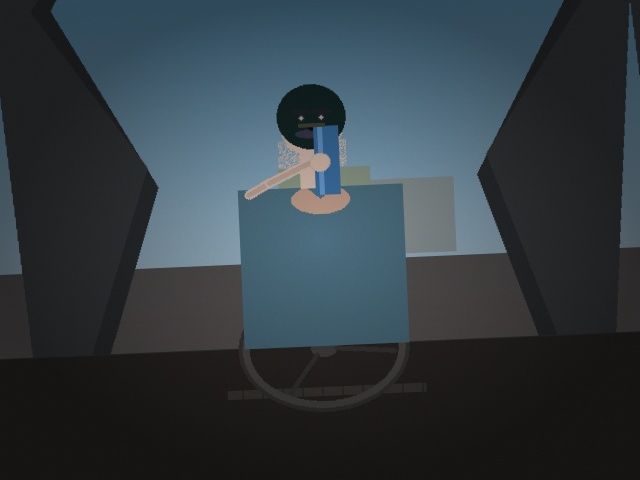drinking: (294, 113, 352, 204)
